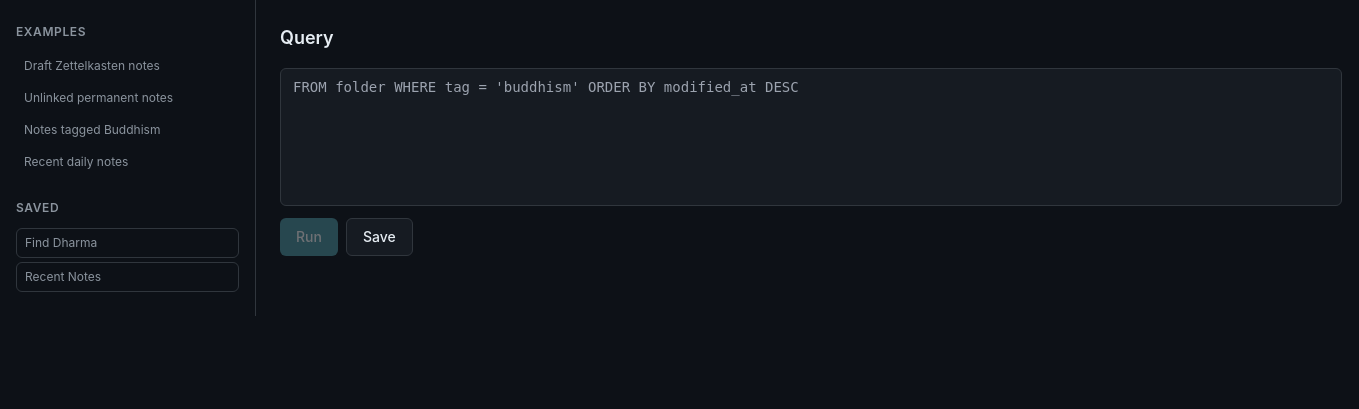
Test: QueryPage — saved queries panel › expands saved query accordion on click
Click the button "Find Dharma" at (128,243), box x1=17 y1=229 x2=238 y2=257
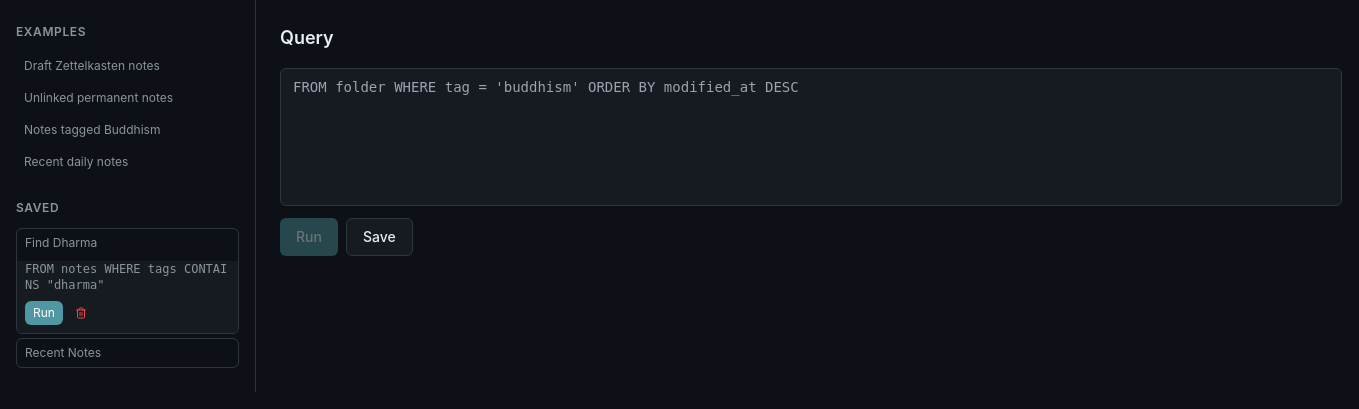
Check: the button "Run" below "FROM notes WHERE tags CONTAINS \"dharma\"" is shown, box x1=25 y1=301 x2=63 y2=325
